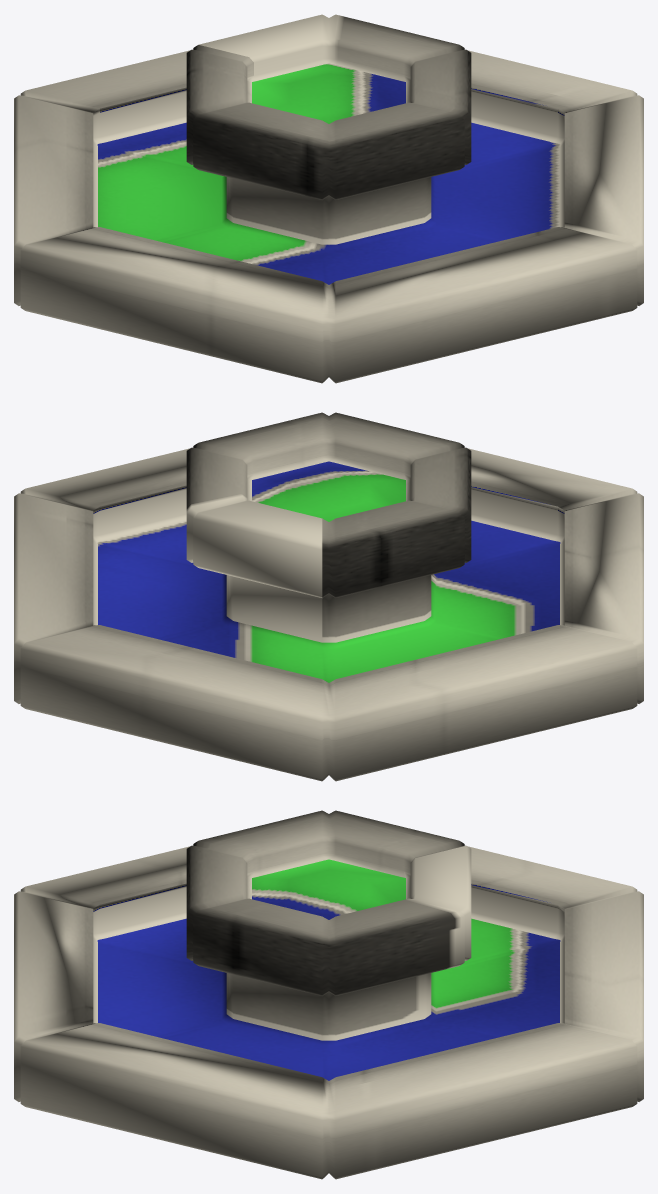
The model's file is final_fountain.fbx.
3 views of the same model, one above another, from view 1: azimuth 30°, elevation 25°; view 2: azimuth 150°, elevation 25°; view 3: azimuth 270°, elevation 25° (orthographic).
Parts seen in each view (by area): view 1: fontain; view 2: fontain; view 3: fontain.
Boxes of the visible parts, box(x1,y1,x2,y2) form: fontain: box(14, 14, 643, 383); fontain: box(14, 412, 643, 781); fontain: box(14, 810, 643, 1179).
Size of the model in its own units: 594 by 140 by 520.
